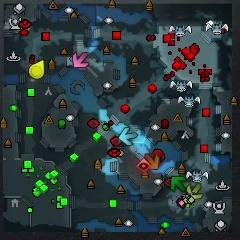p4: (28, 60, 45, 79)
x1: (72, 53, 89, 68)
x2: (188, 184, 203, 199)
x3: (119, 128, 138, 146)
x4: (170, 176, 187, 192)
x5: (145, 153, 160, 170)
